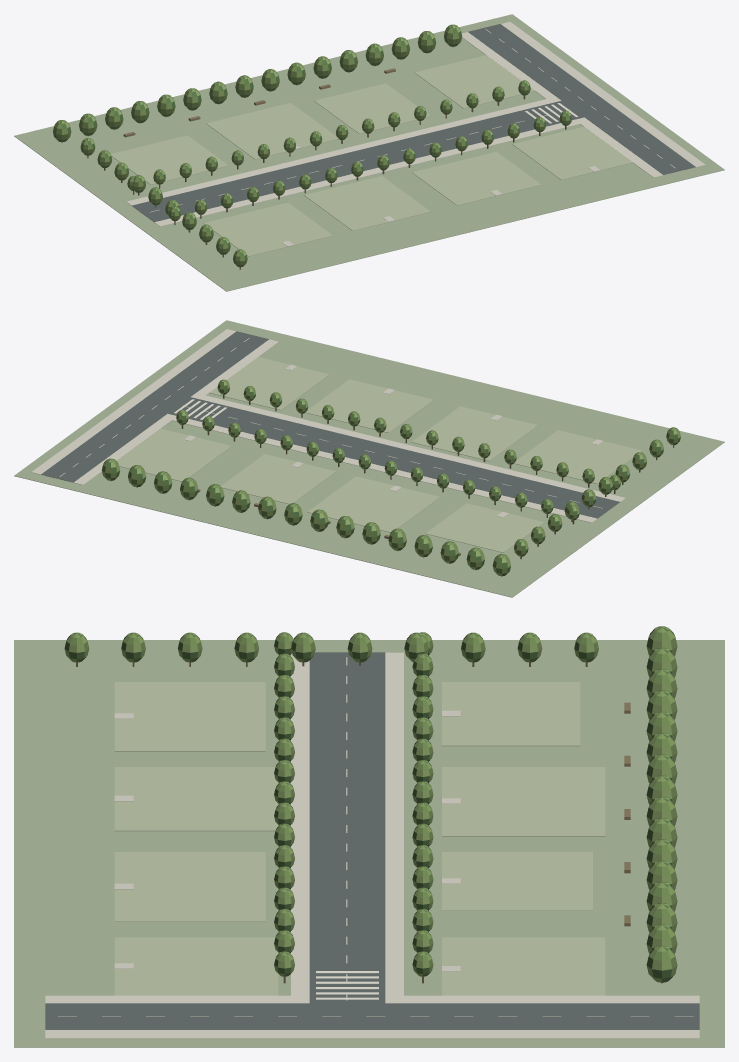
The model's file is landscape.glb.
3 renders of one model, top to bottom at view 1: azimuth 30°, elevation 25°; view 2: azimuth 150°, elevation 25°; view 3: azimuth 270°, elevation 25°, orthographic. The views are drawn at different scales.
Bounding box in the file's own units: 153 × 6.58 × 113.
